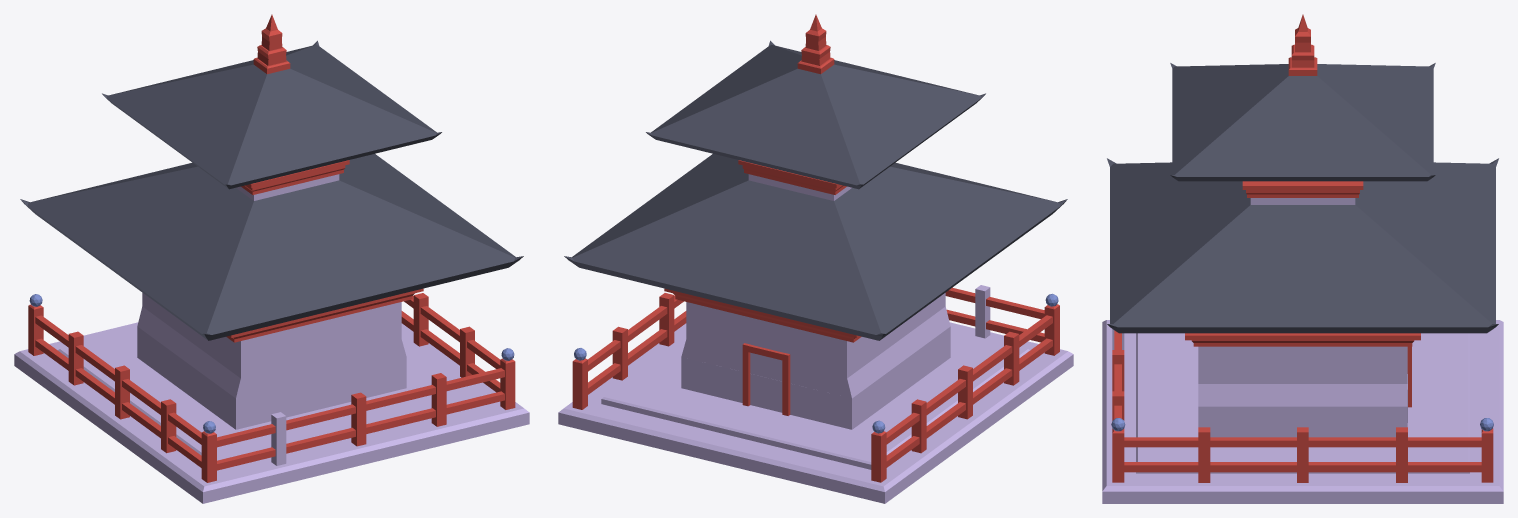
The model's file is House (1).fbx.
3 renders of one model, left to right at view 1: azimuth 30°, elevation 25°; view 2: azimuth 150°, elevation 25°; view 3: azimuth 270°, elevation 25°, orthographic. The views are drawn at different scales.
Parts seen in each view (by area): view 1: Temple; view 2: Temple; view 3: Temple.
Part boxes in pixels (x1,y1,x2,y2): Temple: [14, 14, 529, 503]; Temple: [558, 14, 1073, 503]; Temple: [1102, 14, 1503, 503].
Size of the model in its own units: 595 by 663 by 595.
